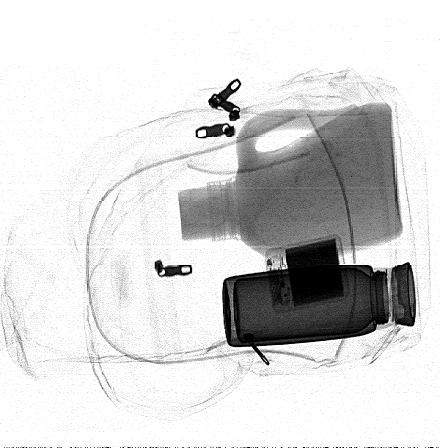Powerbank: (263, 231, 351, 315)
